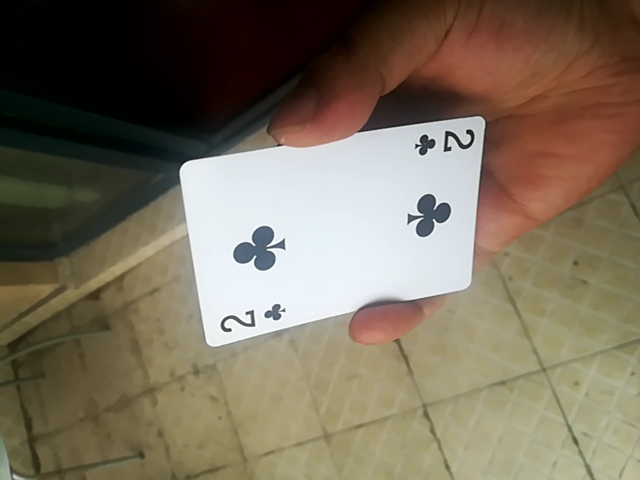mh 2: (176, 116, 484, 347)
